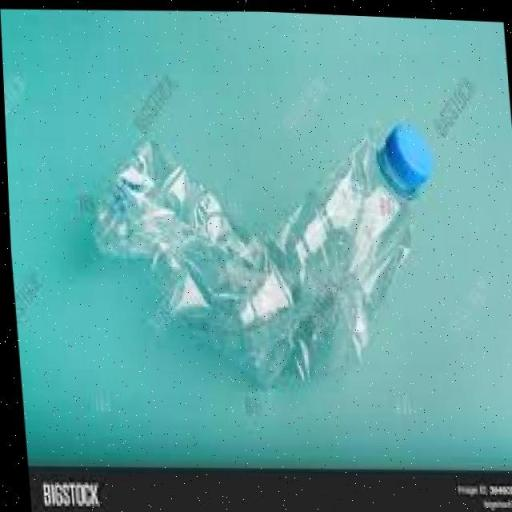plastic: (78, 90, 452, 404)
